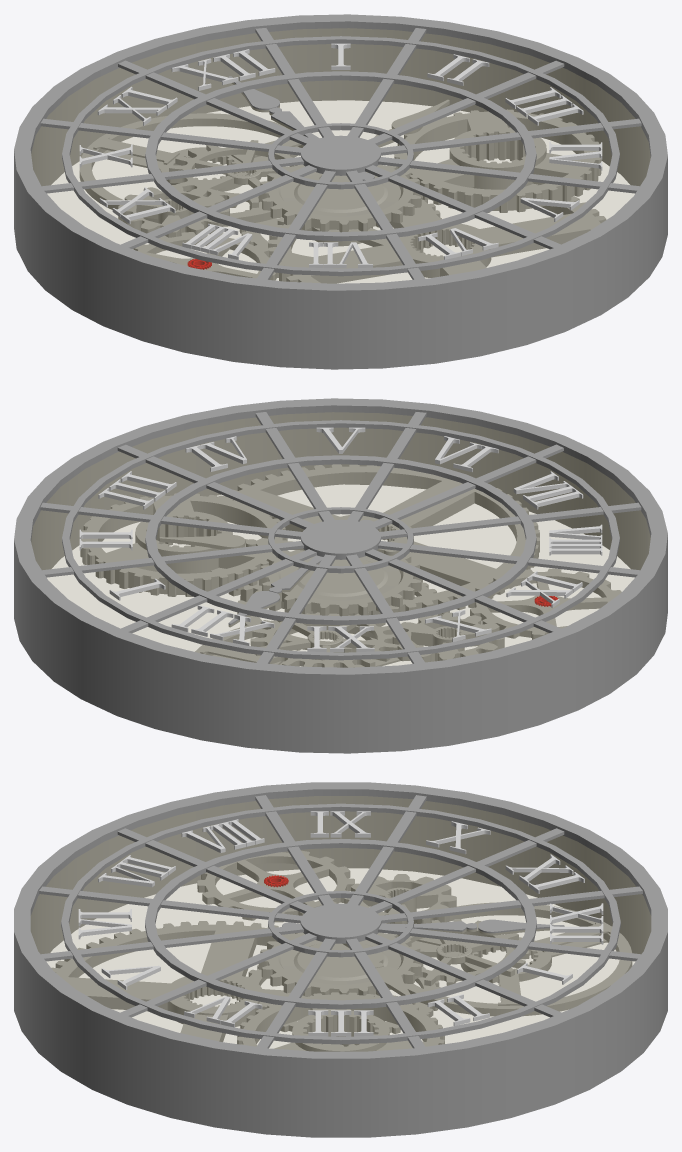
The picture shows the model from 3 angles, top to bottom: view 1: azimuth 30°, elevation 25°; view 2: azimuth 150°, elevation 25°; view 3: azimuth 270°, elevation 25°; orthographic projection.
Visible parts, largest first — view 1: c4, c7, c5, c9, c6, c10, c1, c11, pasted__pCylinder159, c8, pasted__pCylinder161; view 2: c4, c5, c7, c9, c11, c10, c1, c6, pasted__pCylinder161, pasted__pCylinder159, c8; view 3: c4, c5, c6, c7, c9, c11, c10, c1, pasted__pCylinder159, c8, pasted__pCylinder161.
Part boxes in pixels (x1,y1,x2,y2): c4: (14,14,667,369); c7: (394,109,601,212); c5: (268,183,606,283); c9: (259,164,422,232); c6: (79,113,303,226); c10: (169,140,297,207); c1: (118,185,229,237); c11: (133,232,276,280); pasted__pCylinder159: (228,76,374,180); c8: (239,199,441,259); pasted__pCylinder161: (304,99,449,186); c4: (14,398,667,753); c5: (190,464,539,615); c7: (80,493,287,596); c9: (259,550,422,616); c11: (468,568,621,639); c10: (250,612,398,667); c1: (392,612,504,662); c6: (195,620,423,667); pasted__pCylinder161: (159,535,399,555); pasted__pCylinder159: (228,520,373,627); c8: (237,582,443,652); c4: (14,782,667,1137); c5: (51,921,385,1046); c6: (404,902,632,1016); c7: (237,992,444,1051); c9: (258,932,423,996); c11: (197,850,354,922); c10: (398,919,529,985); c1: (344,874,456,924); pasted__pCylinder159: (282,919,564,935); c8: (246,965,440,1033); pasted__pCylinder161: (342,942,415,1004).
Bounding box in the file's own units: 1514 × 210 × 1514.
